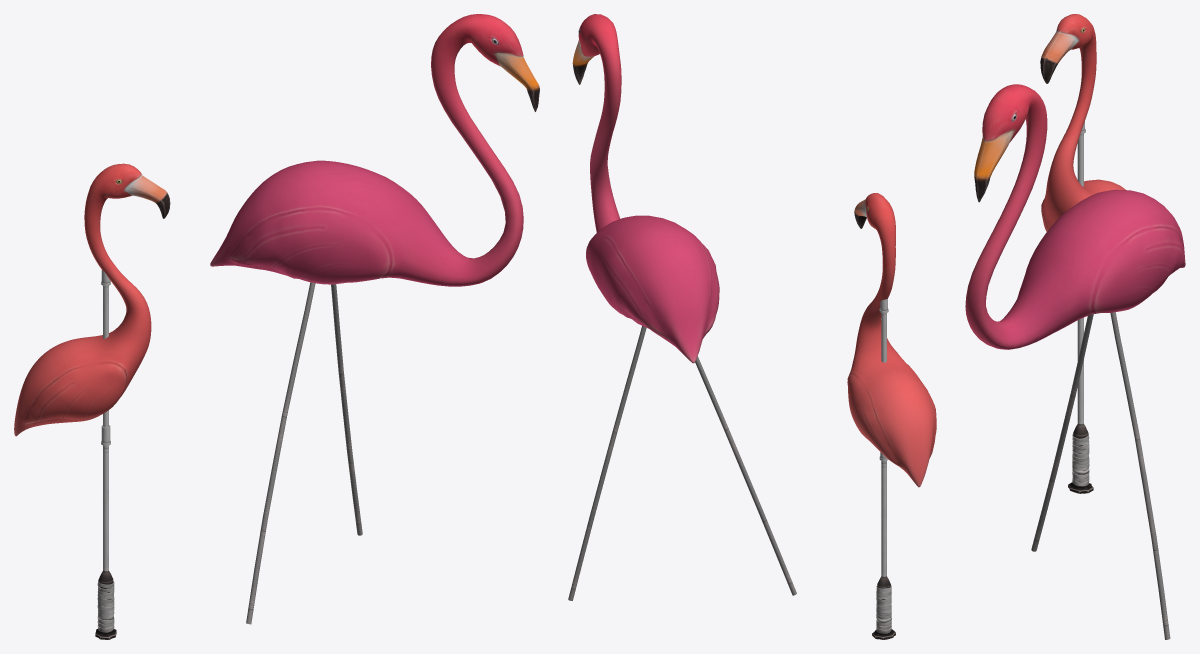
3 views of the same model, side by side, from view 1: azimuth 30°, elevation 25°; view 2: azimuth 150°, elevation 25°; view 3: azimuth 270°, elevation 25° (orthographic). The views are drawn at different scales.
Parts seen in each view (by area): view 1: Flamingo08_M_Flamingo02_0, Flamingo01; view 2: Flamingo08_M_Flamingo02_0, Flamingo01; view 3: Flamingo08_M_Flamingo02_0, Flamingo01.
Boxes of the visible parts, x1,y1,x2,y2 form: Flamingo08_M_Flamingo02_0: (210,14,539,624); Flamingo01: (14,163,170,639); Flamingo08_M_Flamingo02_0: (568,14,796,600); Flamingo01: (847,193,936,639); Flamingo08_M_Flamingo02_0: (965,84,1185,639); Flamingo01: (1040,14,1125,493).
Size of the model in its own units: 1.53 by 1.83 by 0.6354.
2 materials, 2 textured.
